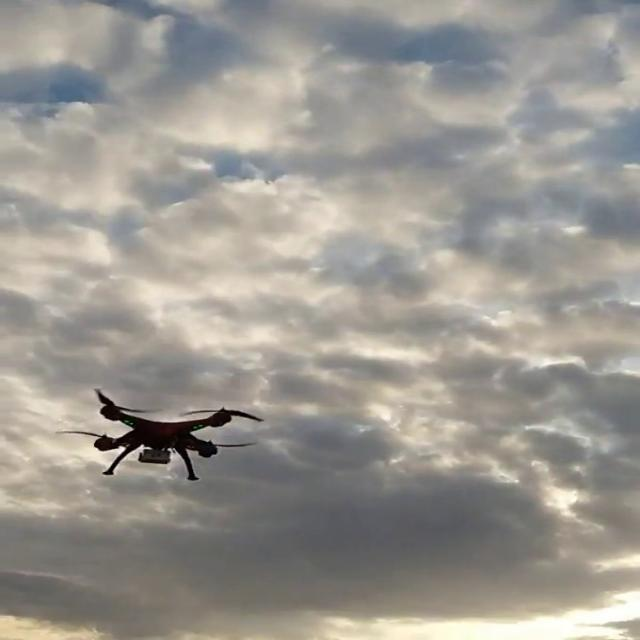drone: (54, 389, 268, 481)
